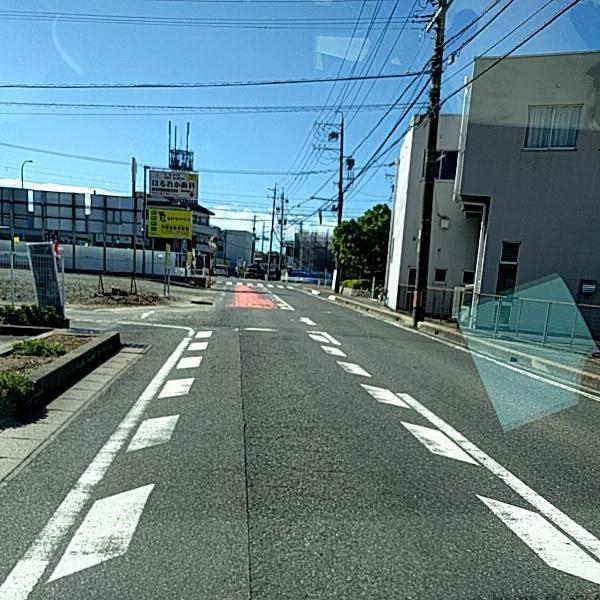D44: (307, 321, 599, 591), (0, 331, 197, 596)
